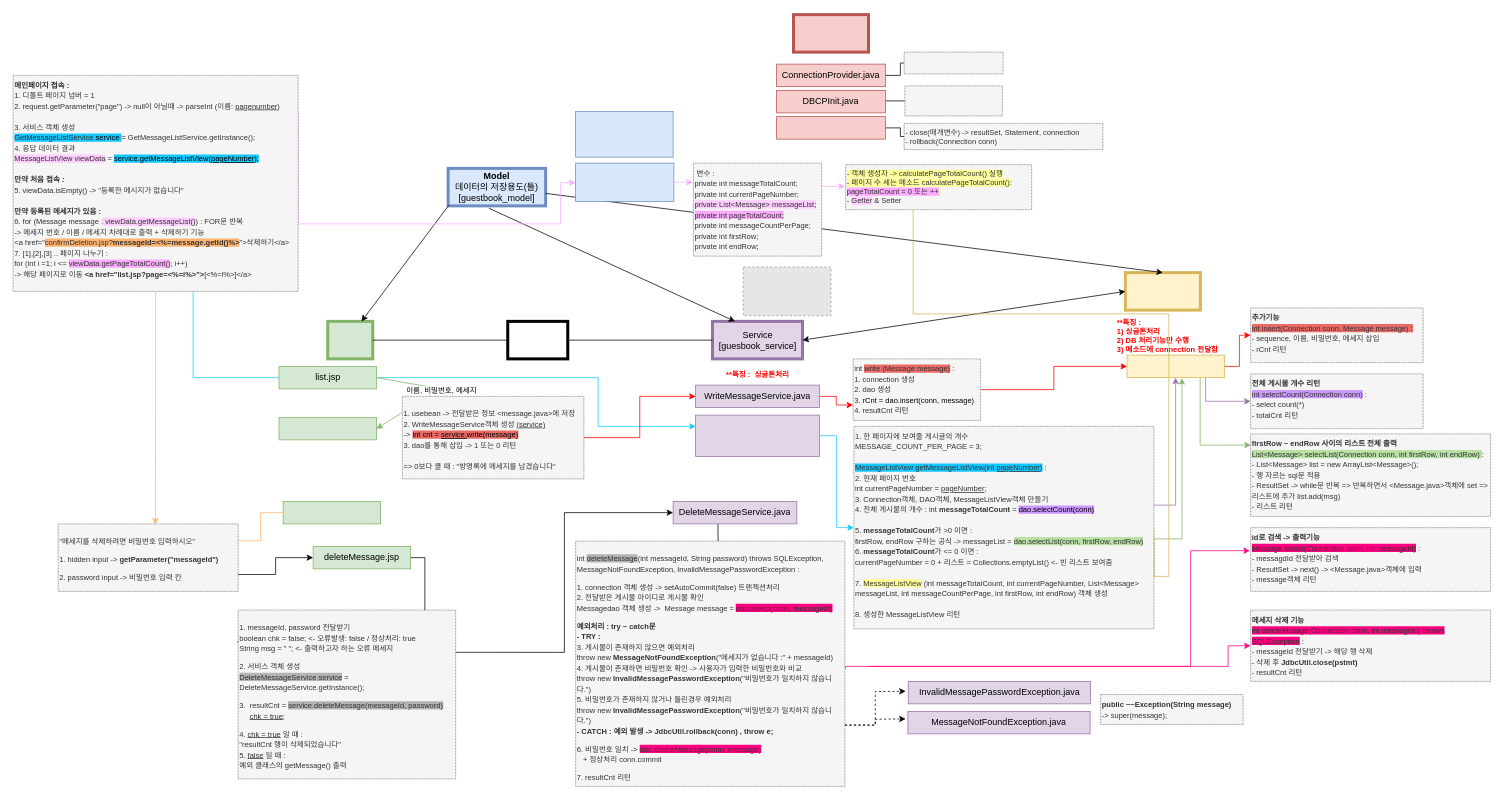
This 1504x801 diagram has some shape labels left out. Grey dashed boxes stand in for pictures. The centre of each missing label's shape, as x and y in pixels:
"- loadJdbcDriver() - initConnectionPoll()" belongs at (x=953, y=100).
"confirmDeletion.jsp" belongs at (x=331, y=512).
"Connection getConnection()" belongs at (x=953, y=62).
"DAO [guestbook.dao]" belongs at (x=1163, y=291).
"GetMessageListService.java 화면에 있는 데이터 모아서 MessageListView객체로 전달!" belongs at (x=757, y=435).
"JDBC" belongs at (x=831, y=33).
"JdbcUtil.java" belongs at (x=830, y=127).
"JSP" belongs at (x=350, y=340).
"Message.java 1) DB 컬럼값 저장 목적 2) 사용자페이지 > 전달 > 사용자의 데이터 저장 목적" belongs at (x=624, y=134).
"MessageDao.java" belongs at (x=1175, y=366).
"MessageListView.java 게시글 많을때 페이지로 나누는 기능" belongs at (x=624, y=181).
"MVC 프레임워크" belongs at (x=537, y=340).
"writeMessage.jsp" belongs at (x=327, y=428).
